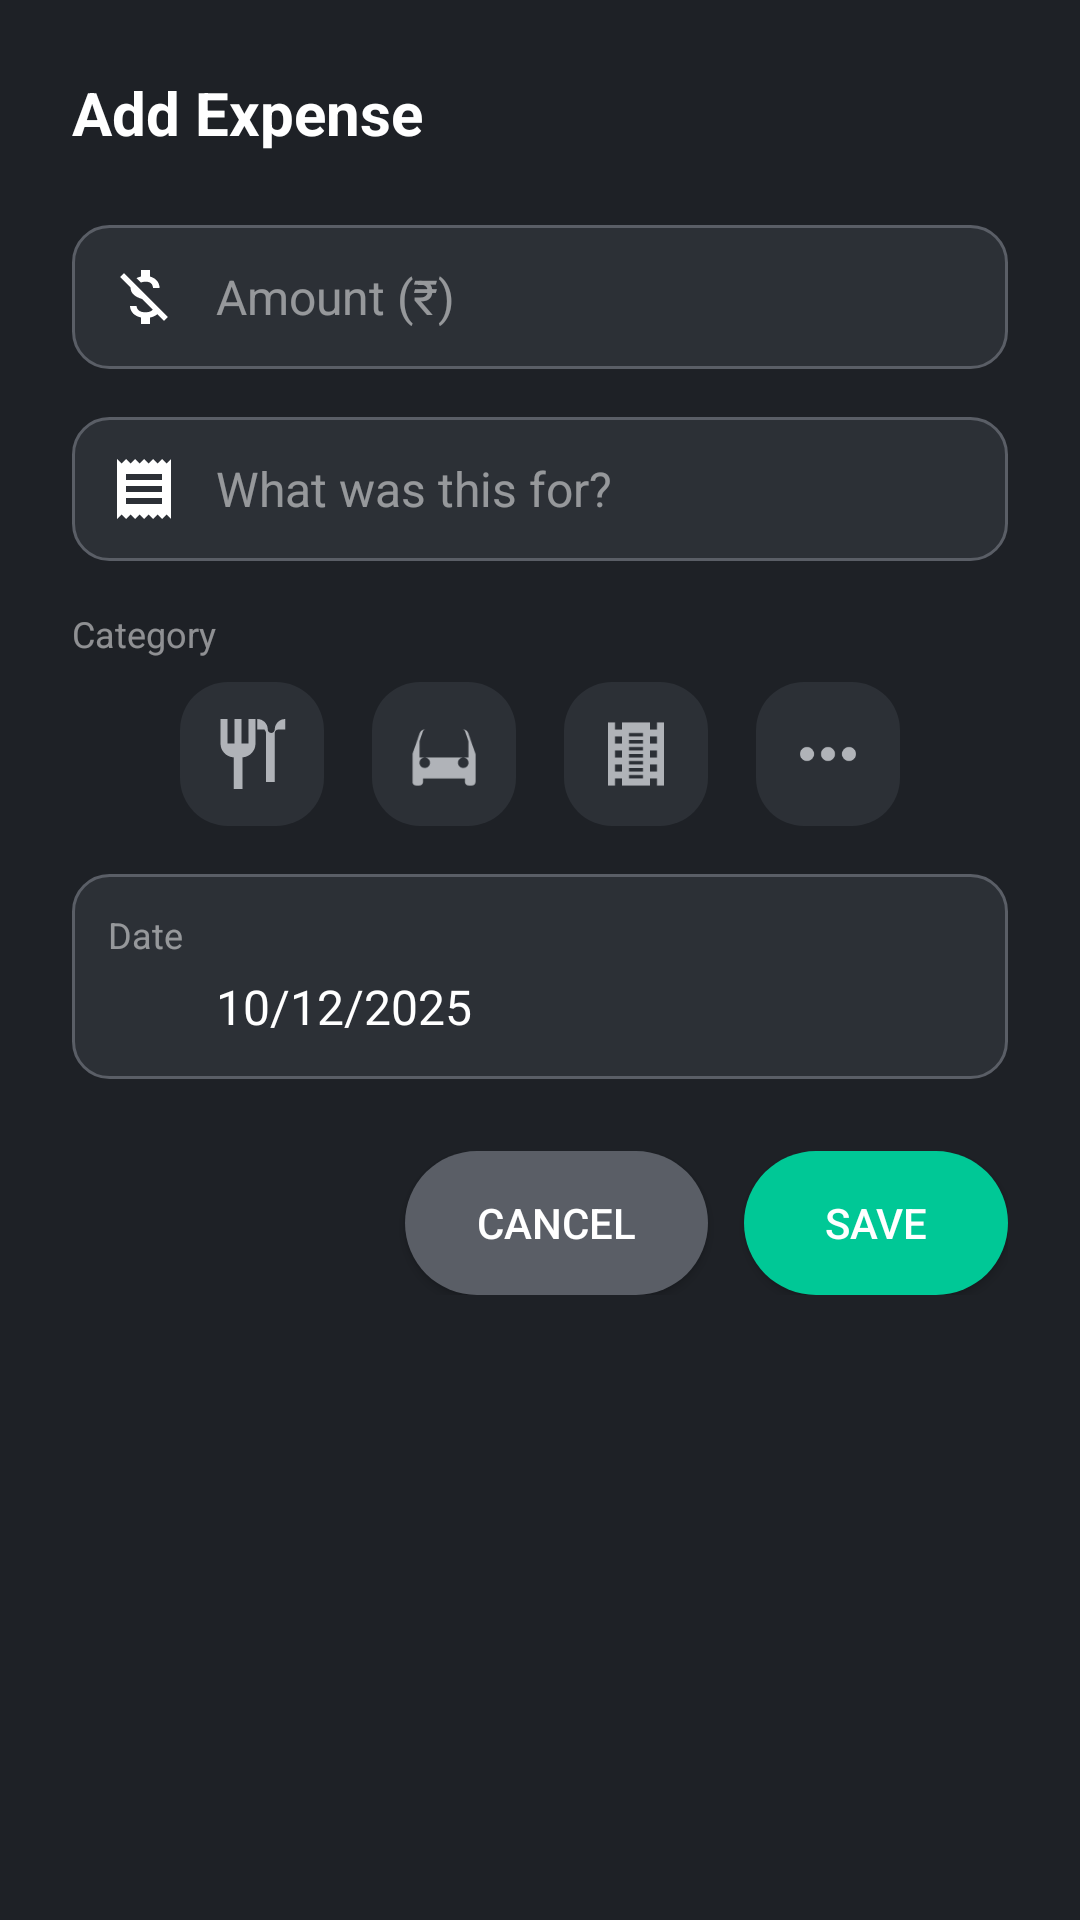

Icons on this 1080×1920 Android screen, each with the point to tap as [x,y]:
entertainment: [636,754]
food: [252,754]
other: [828,754]
receipt: [144,489]
transport: [444,754]
